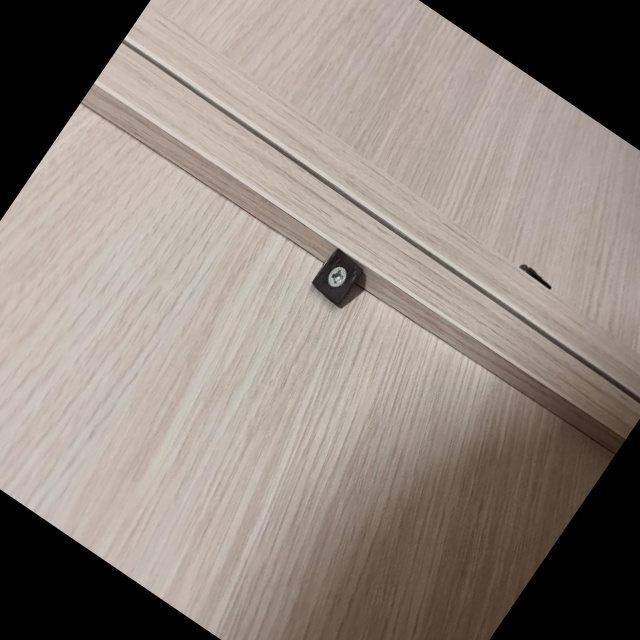pozidriv: (324, 263, 351, 291)
